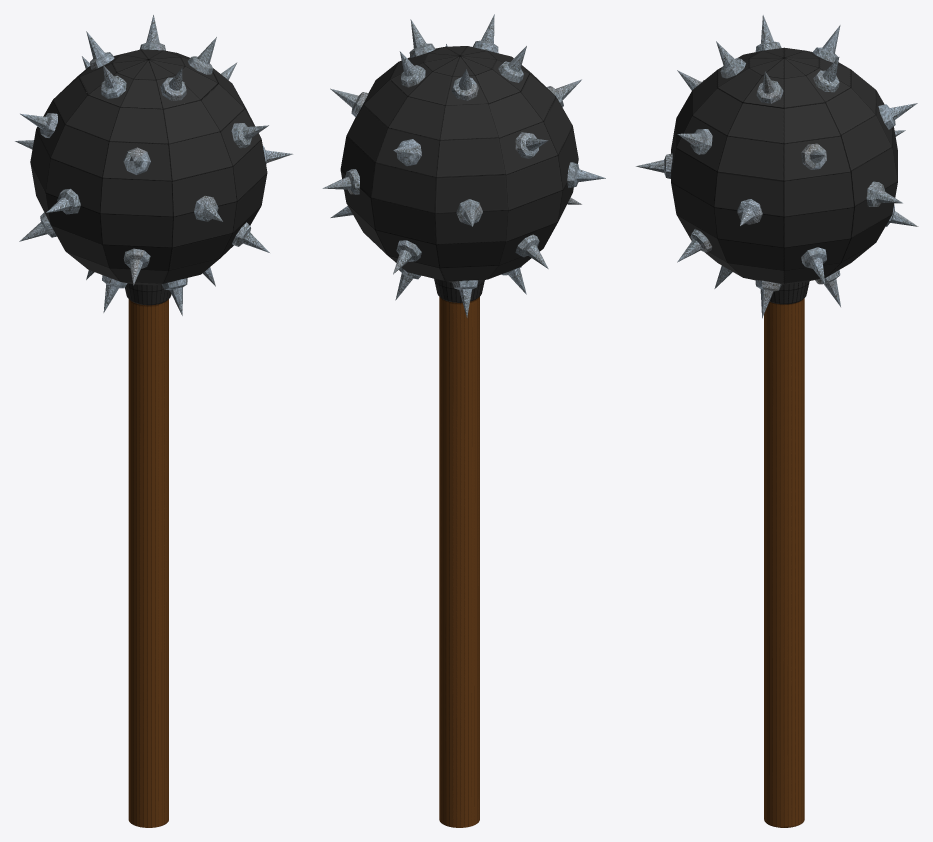
File: mace.dae
3 views of the same model, side by side, from view 1: azimuth 30°, elevation 25°; view 2: azimuth 150°, elevation 25°; view 3: azimuth 270°, elevation 25° (orthographic).
Visible parts, largest first — view 1: Mace; view 2: Mace; view 3: Mace.
Boxes of the visible parts, x1=… form: Mace: x1=15, y1=15, x2=292, y2=827; Mace: x1=322, y1=14, x2=605, y2=827; Mace: x1=636, y1=15, x2=918, y2=827.
Bounding box in the file's own units: 0.2251 × 0.223 × 0.6758.
1 material, 1 textured.
